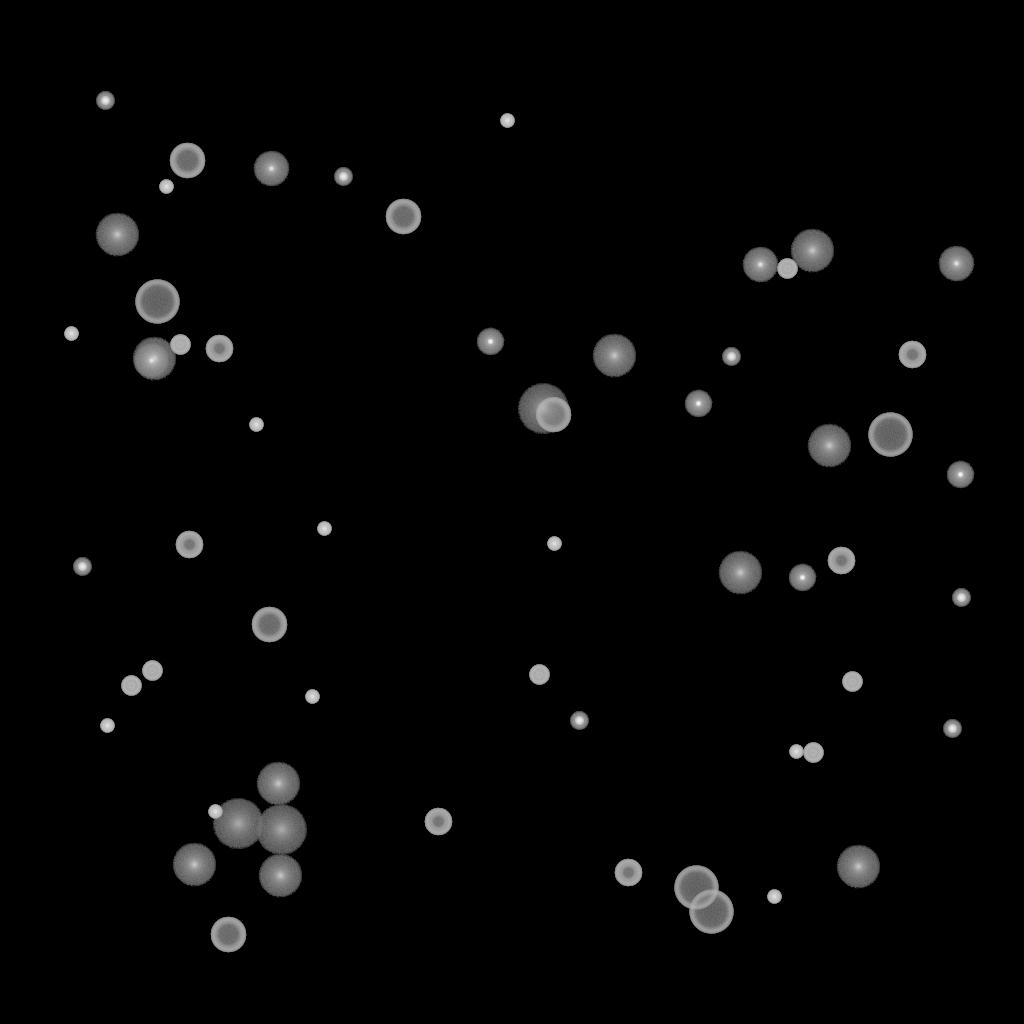depth:-10: (476, 328, 504, 356), (946, 461, 974, 489), (684, 390, 712, 418), (788, 564, 816, 592)
depth:-20: (943, 720, 961, 738), (952, 589, 970, 607), (96, 92, 114, 110), (73, 558, 91, 576), (570, 712, 588, 730), (722, 348, 740, 366), (334, 168, 352, 186)
depth:-30: (159, 180, 173, 194), (208, 805, 222, 819), (305, 690, 319, 704), (767, 890, 781, 904), (64, 327, 78, 341), (317, 522, 331, 536), (249, 418, 263, 432), (789, 745, 803, 759), (547, 537, 561, 551), (500, 114, 514, 128), (100, 719, 114, 733)
depth:-40: (121, 676, 141, 696), (842, 672, 862, 692), (803, 743, 823, 763), (777, 259, 797, 279), (142, 661, 162, 681), (529, 665, 549, 685), (170, 335, 190, 355)
depth:-50: (205, 335, 233, 363), (614, 859, 642, 887), (424, 808, 452, 836), (827, 547, 855, 575), (175, 531, 203, 559), (898, 341, 926, 369)
depth:-60: (210, 917, 246, 953), (251, 607, 287, 643), (385, 199, 421, 235), (169, 143, 205, 179), (535, 397, 571, 433)
depth:-70: (135, 280, 179, 324), (674, 866, 718, 910), (868, 413, 912, 457), (689, 890, 733, 934)
depth:0: (253, 151, 289, 187), (742, 247, 778, 283), (938, 246, 974, 282), (133, 343, 169, 379)
depth:10: (258, 854, 302, 898), (592, 334, 636, 378), (256, 762, 300, 806), (95, 213, 139, 257), (807, 424, 851, 468), (718, 551, 762, 595), (836, 845, 880, 889), (132, 337, 176, 381), (790, 229, 834, 273), (172, 843, 216, 887)
depth:20: (212, 799, 264, 849), (255, 805, 307, 855), (517, 384, 569, 434)
